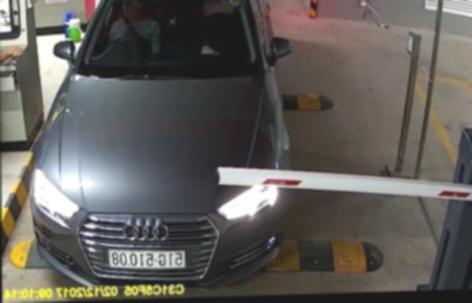License_Plate: (104, 243, 190, 269)
